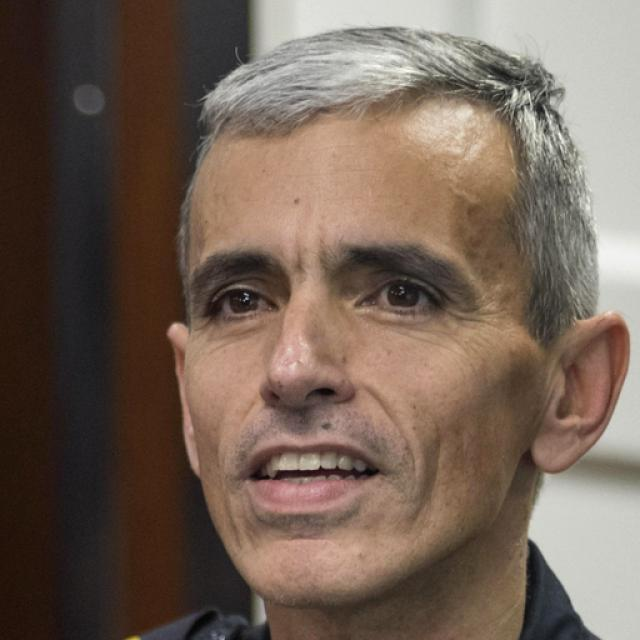0_rostro_limpio: (168, 26, 628, 606)
